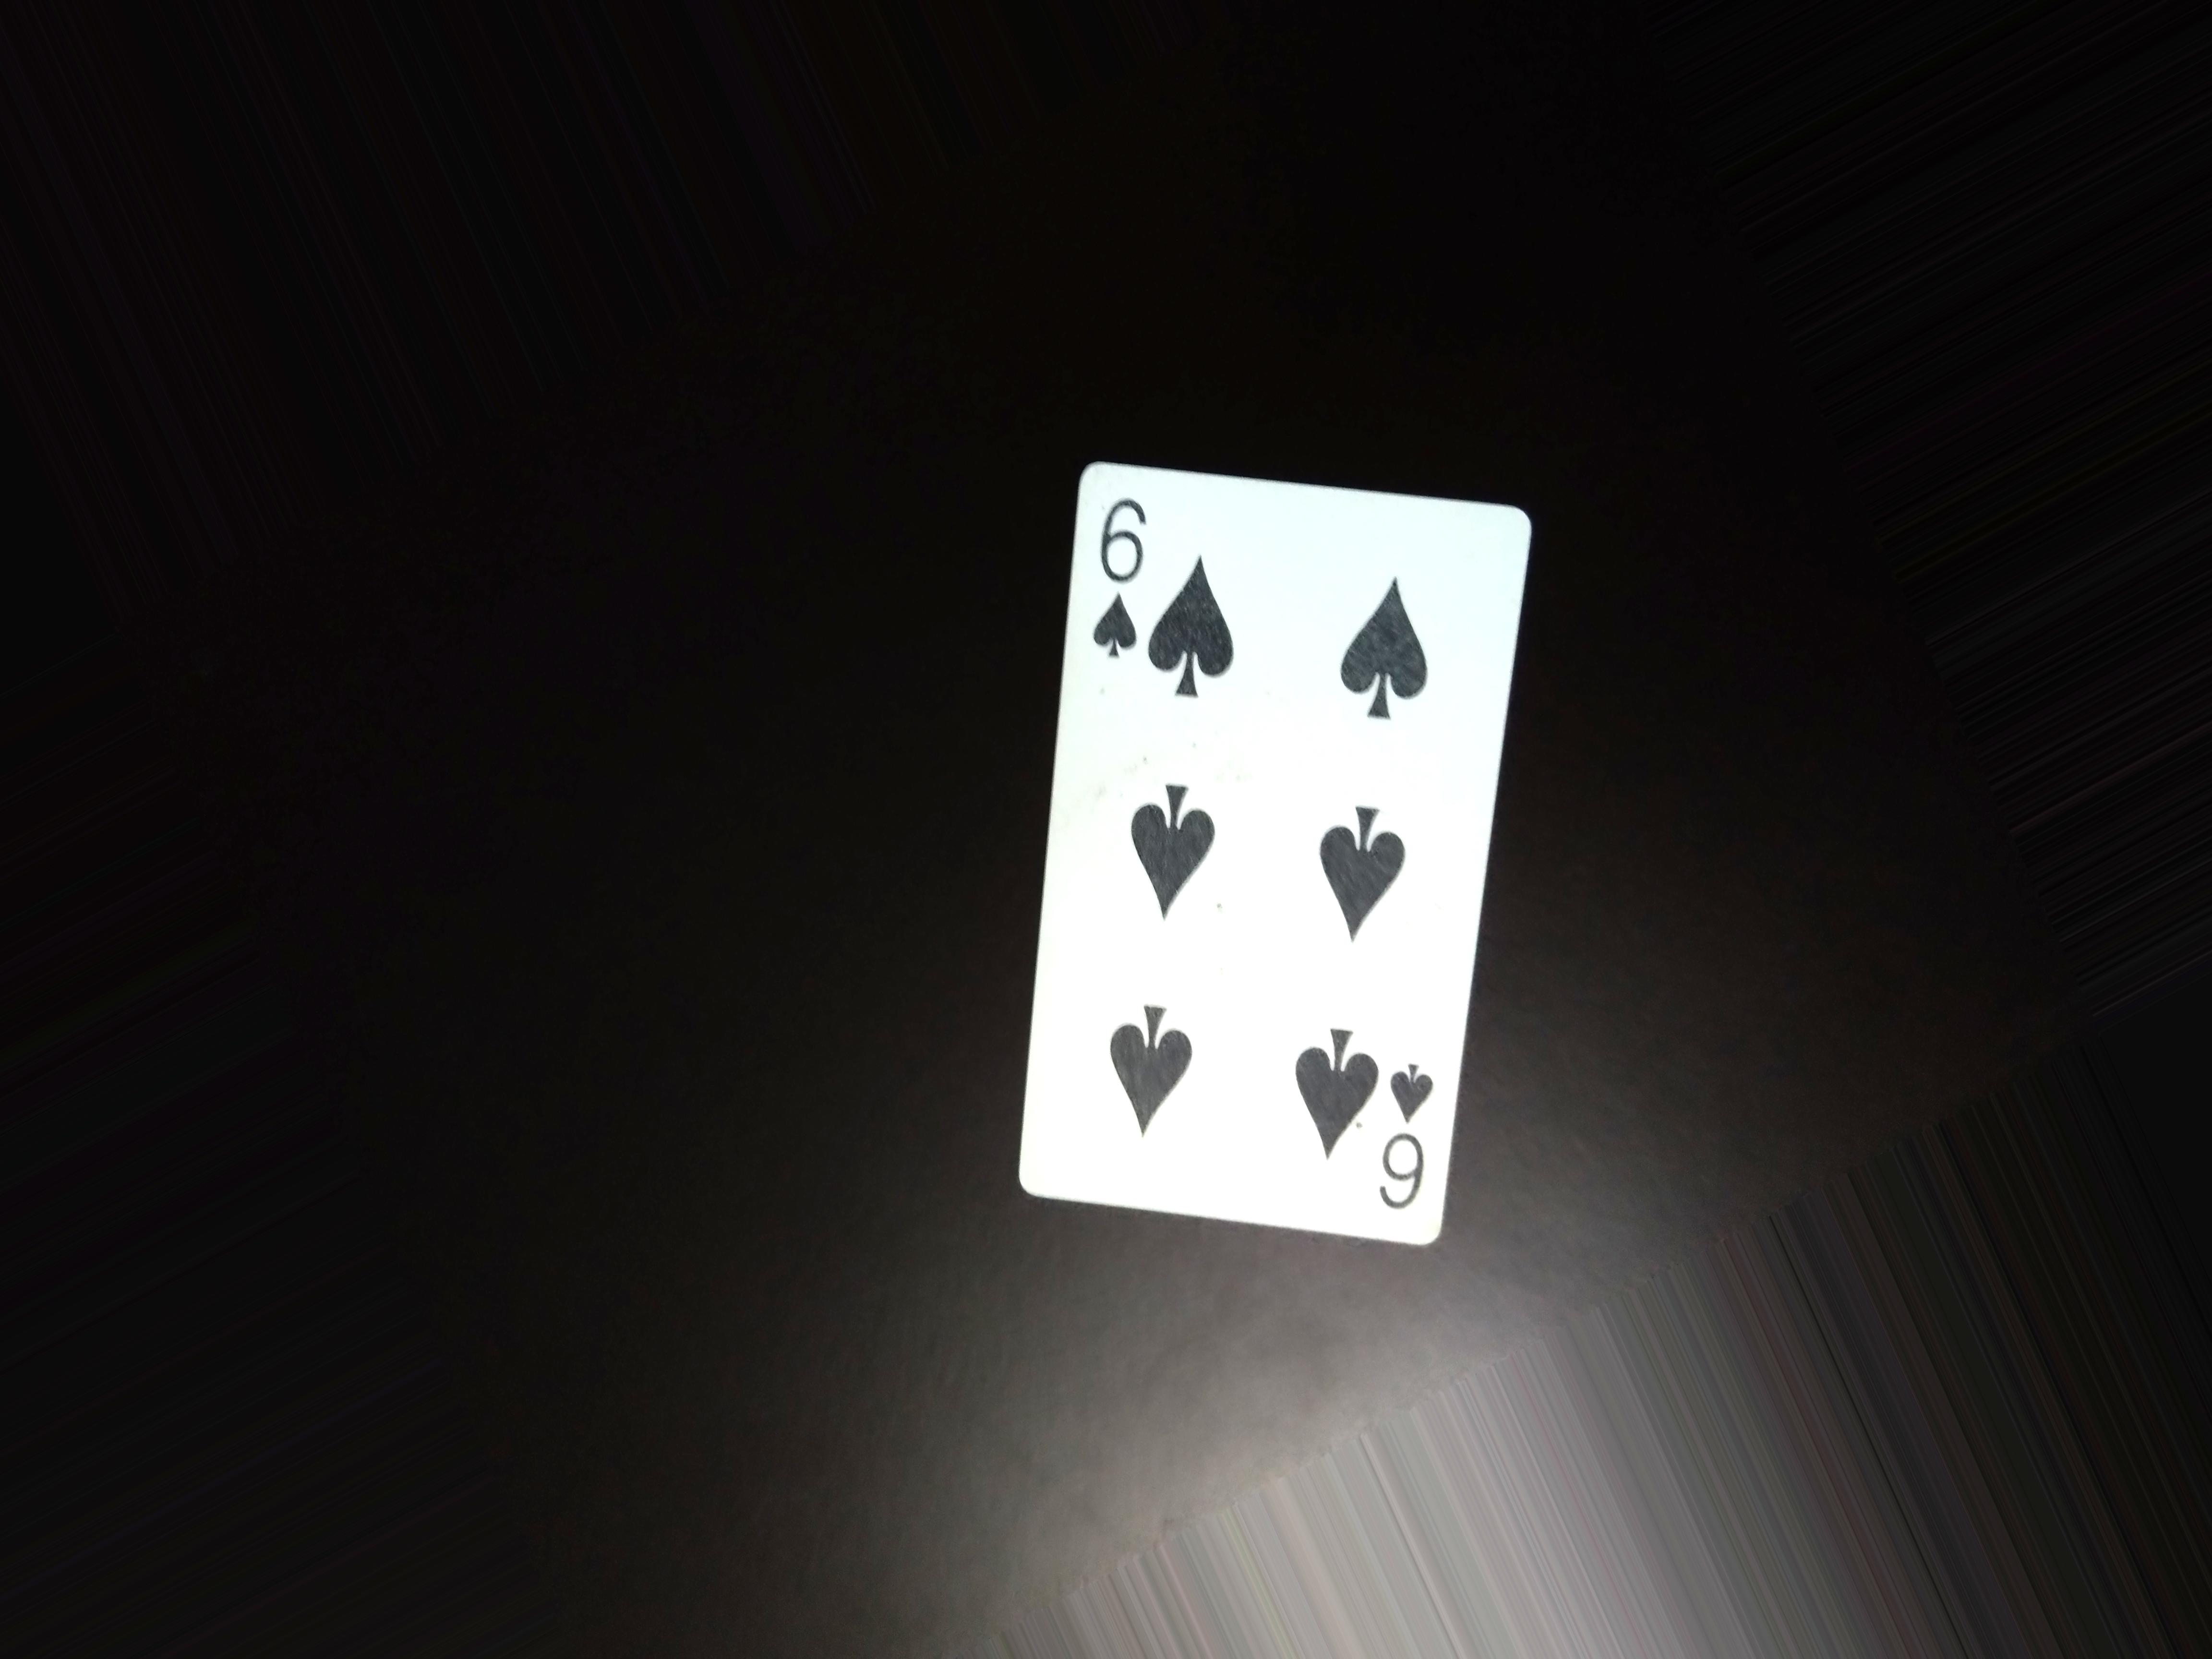6S: (1094, 451, 1169, 671)
